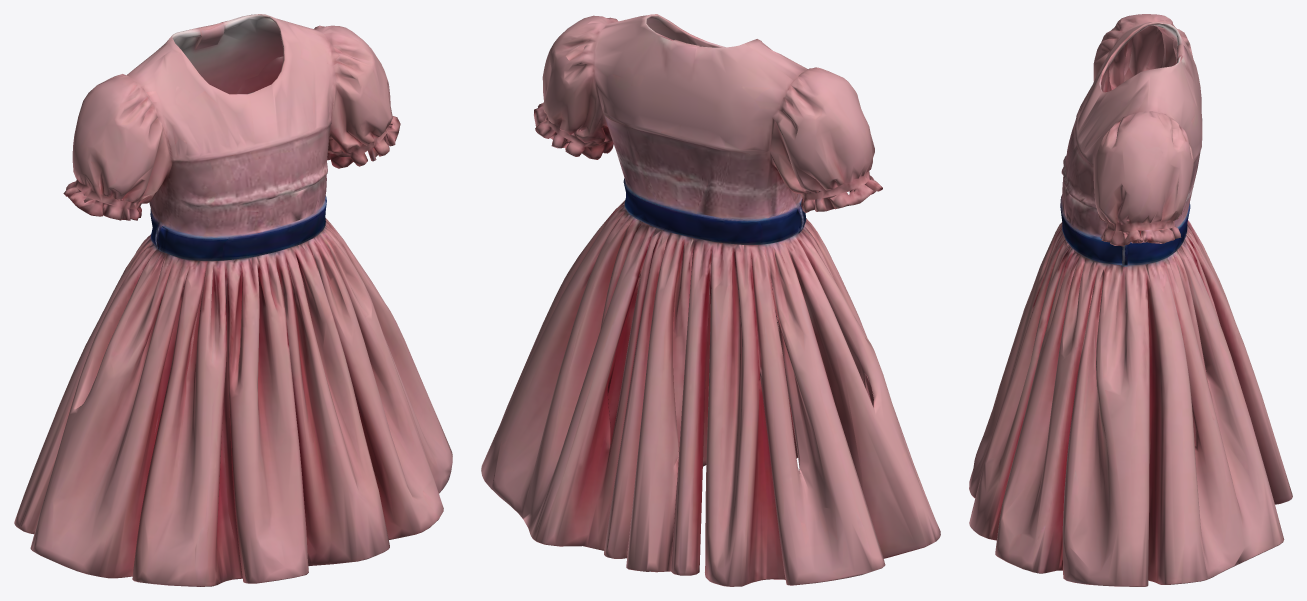
The model's file is vestido.glb.
3 renders of one model, left to right at view 1: azimuth 30°, elevation 25°; view 2: azimuth 150°, elevation 25°; view 3: azimuth 270°, elevation 25°, orthographic. The views are drawn at different scales.
Visible parts, largest first — view 1: node_0; view 2: node_0; view 3: node_0.
Part boxes in pixels (left/top/right/bottom): node_0: left=14, top=14, right=452, bottom=586; node_0: left=481, top=14, right=940, bottom=586; node_0: left=969, top=14, right=1292, bottom=586.
Size of the model in its own units: 0.8597 by 0.9519 by 0.5935.
1 material, 1 textured.
